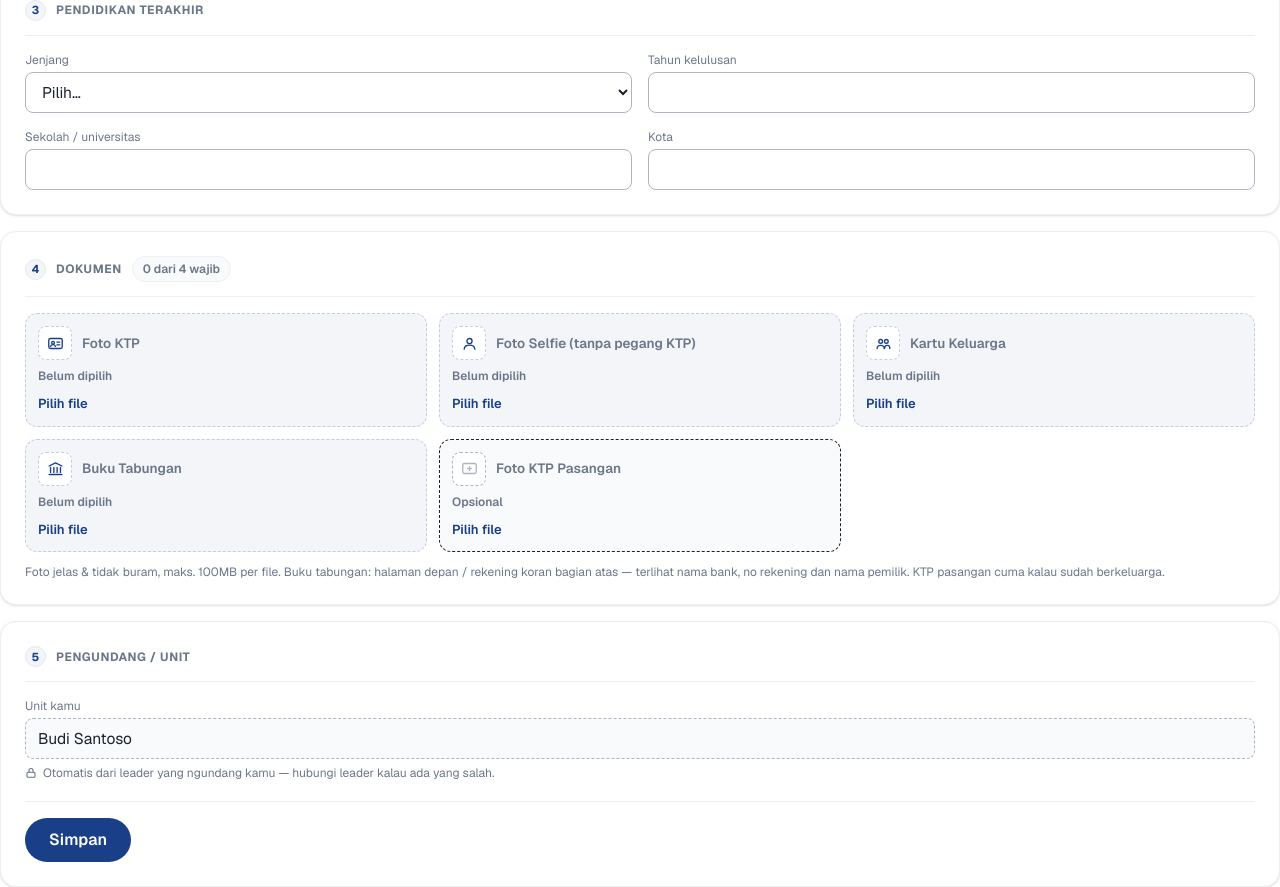
JoinDataForm — first fill › a derivable unit renders locked and leaves the summary count alone
The width and height of the screenshot is (1280, 887).
(page scrolled)
Expected: the field labelled "Unit kamu" holds "Budi Santoso", [25, 718, 1255, 759]
Click the button "Simpan" at x=78, y=840, box [25, 818, 131, 862]
(page scrolled)
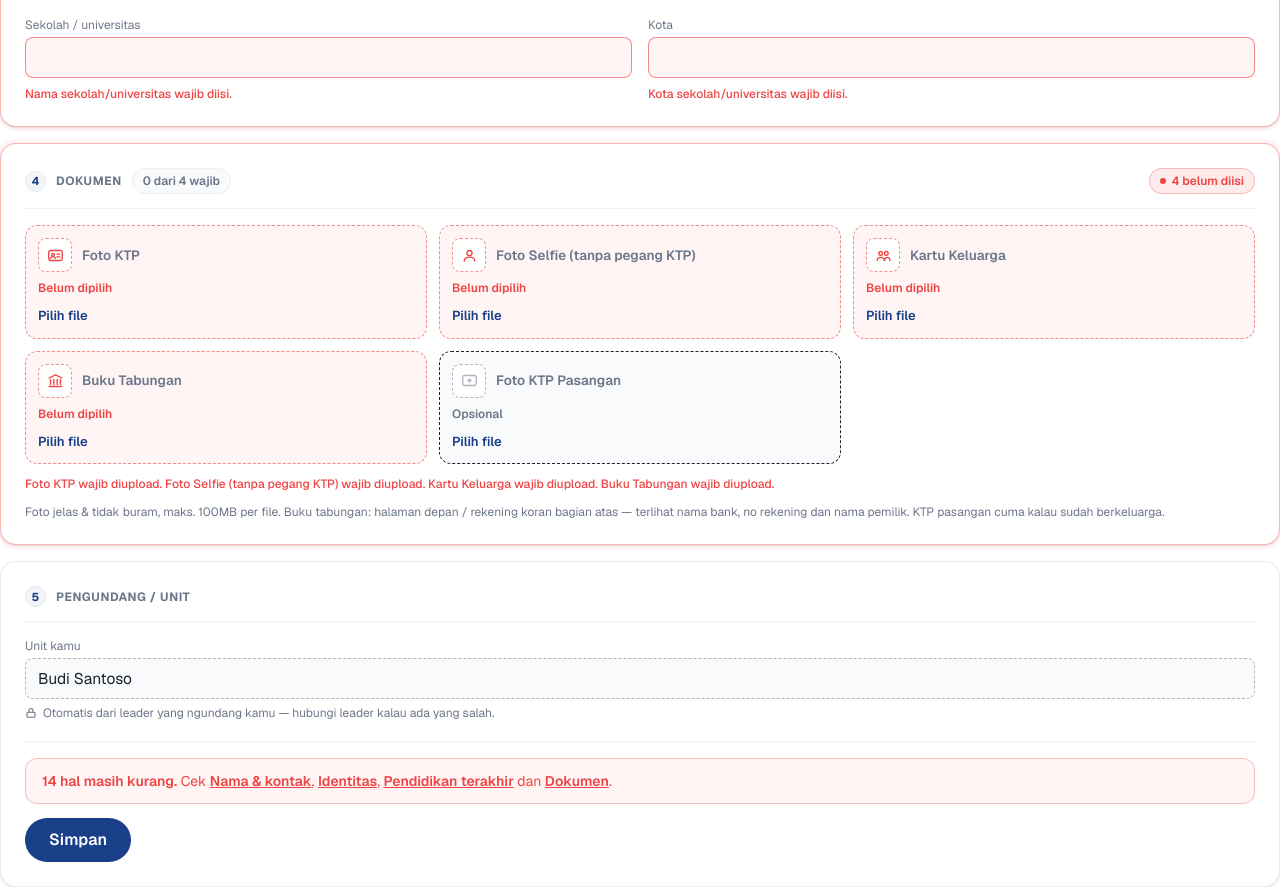
Expected: the message shows "14 hal masih kurang.", [25, 758, 1255, 804]
